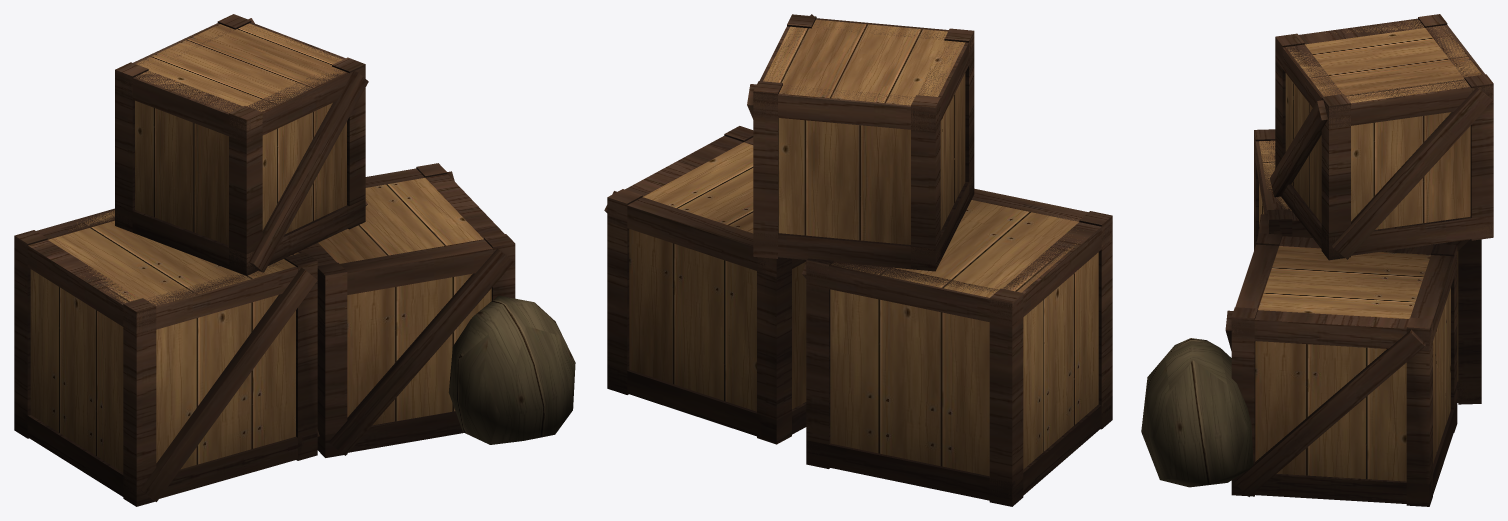
Rendered from town_crates.glb.
3 renders of one model, left to right at view 1: azimuth 30°, elevation 25°; view 2: azimuth 150°, elevation 25°; view 3: azimuth 270°, elevation 25°, orthographic. The views are drawn at different scales.
Parts seen in each view (by area): view 1: town_crates; view 2: town_crates; view 3: town_crates.
Part boxes in pixels (<box>): town_crates: <box>14,14,575,506</box>; town_crates: <box>604,14,1112,506</box>; town_crates: <box>1141,14,1493,506</box>.
Size of the model in its own units: 1.41 by 1.13 by 1.06.
Materials: 3 (3 with a texture image).
